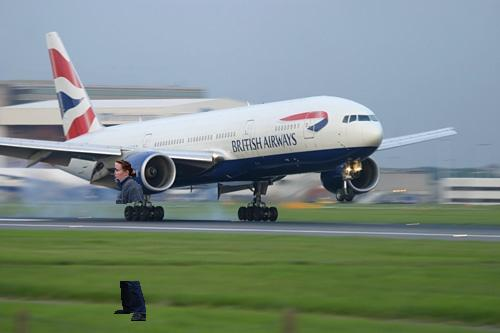tampered: (115, 161, 146, 321)
